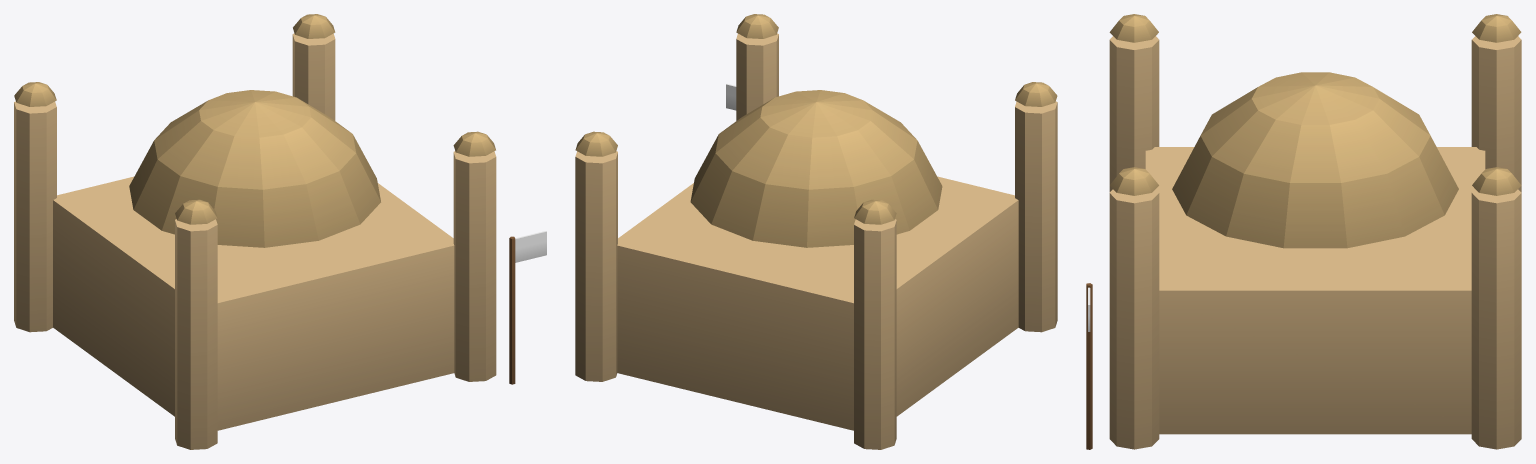
Rendered from BASE_PERSIAN.glb.
3 renders of one model, left to right at view 1: azimuth 30°, elevation 25°; view 2: azimuth 150°, elevation 25°; view 3: azimuth 270°, elevation 25°, orthographic. The views are drawn at different scales.
Parts seen in each view (by area): view 1: Body, Flag; view 2: Body; view 3: Body.
Boxes of the visible parts, x1,y1,x2,y2 form: Body: (14,14,515,449); Flag: (515,231,546,262); Body: (575,14,1057,449); Body: (1086,14,1521,449).
Bounding box in the file's own units: 4.01 × 2.7 × 3.84.
Materials: 1 (1 with a texture image).
